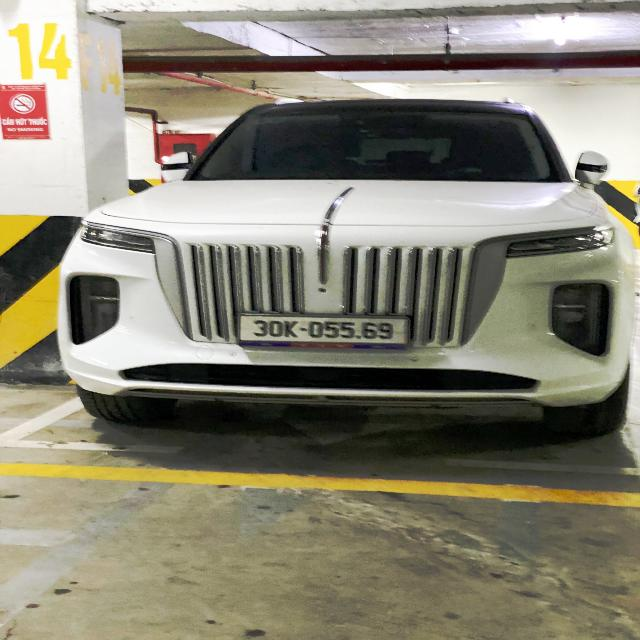license_plate: (236, 314, 412, 352)
